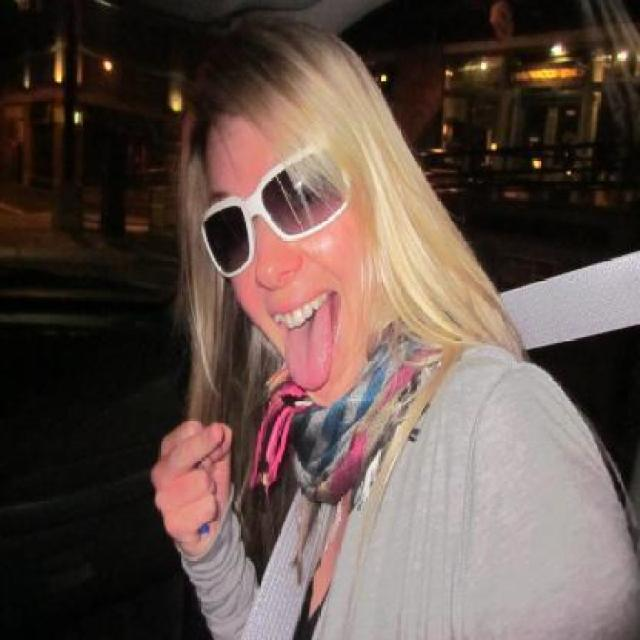face_nomask: (192, 164, 378, 387)
glasses: (195, 142, 352, 280)
hand_noglove: (150, 410, 242, 550)
head_nohelmet: (168, 38, 346, 144)
